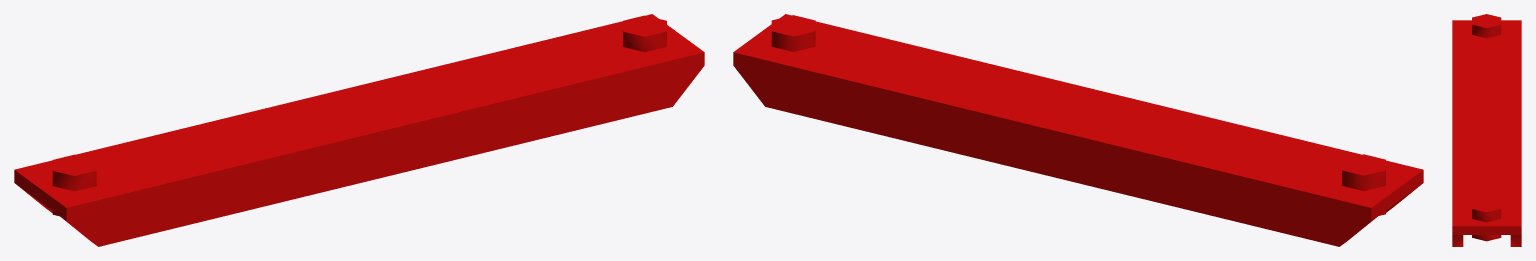
3 renders of one model, left to right at view 1: azimuth 30°, elevation 25°; view 2: azimuth 150°, elevation 25°; view 3: azimuth 270°, elevation 25°, orthographic. The views are drawn at different scales.
Parts seen in each view (by area): view 1: Mesh; view 2: Mesh; view 3: Mesh.
Boxes of the visible parts, x1,y1,x2,y2 form: Mesh: (14,14,704,246); Mesh: (733,14,1423,246); Mesh: (1452,14,1521,246).
Size of the model in its own units: 0.5072 by 0.0472 by 0.072.
